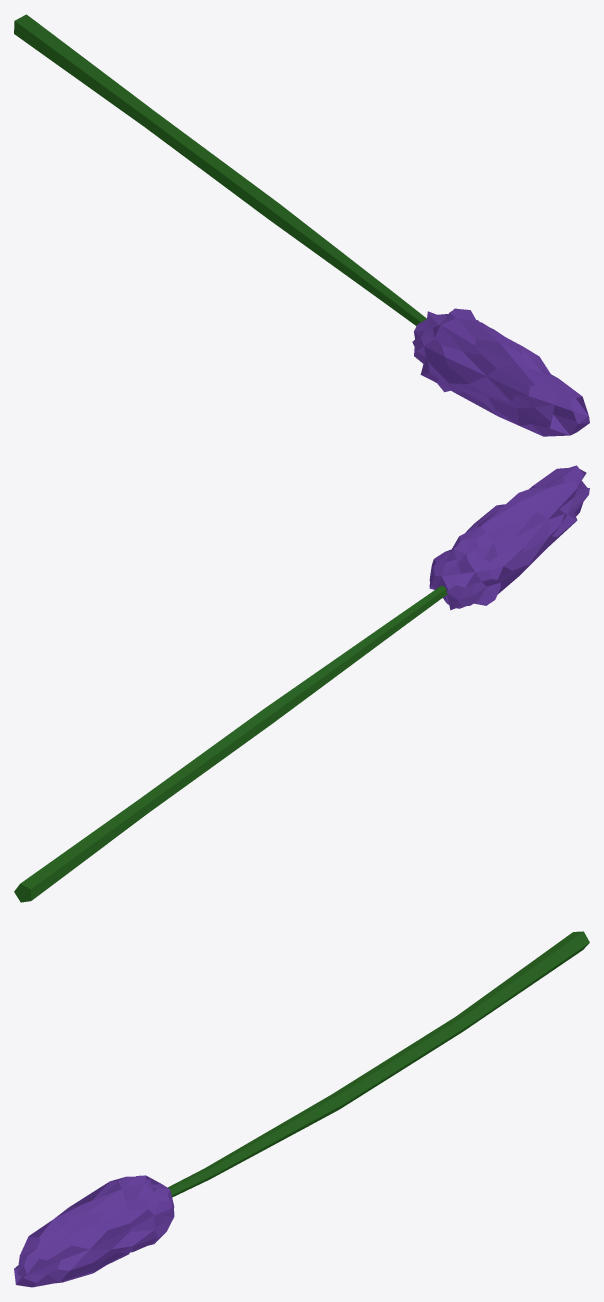
File: Lavendel_mid.dae
3 renders of one model, top to bottom at view 1: azimuth 30°, elevation 25°; view 2: azimuth 150°, elevation 25°; view 3: azimuth 330°, elevation 25°, orthographic. The views are drawn at different scales.
Parts seen in each view (by area): view 1: polySurface3, polySurface4; view 2: polySurface3, polySurface4; view 3: polySurface3, polySurface4.
Part boxes in pixels (left/top/right/bottom): polySurface3: left=412, top=308, right=589, bottom=436; polySurface4: left=14, top=14, right=426, bottom=325; polySurface3: left=429, top=465, right=589, bottom=610; polySurface4: left=14, top=585, right=447, bottom=902; polySurface3: left=14, top=1175, right=174, bottom=1287; polySurface4: left=168, top=931, right=589, bottom=1197.
Size of the model in its own units: 7.77 by 7.42 by 95.49.
